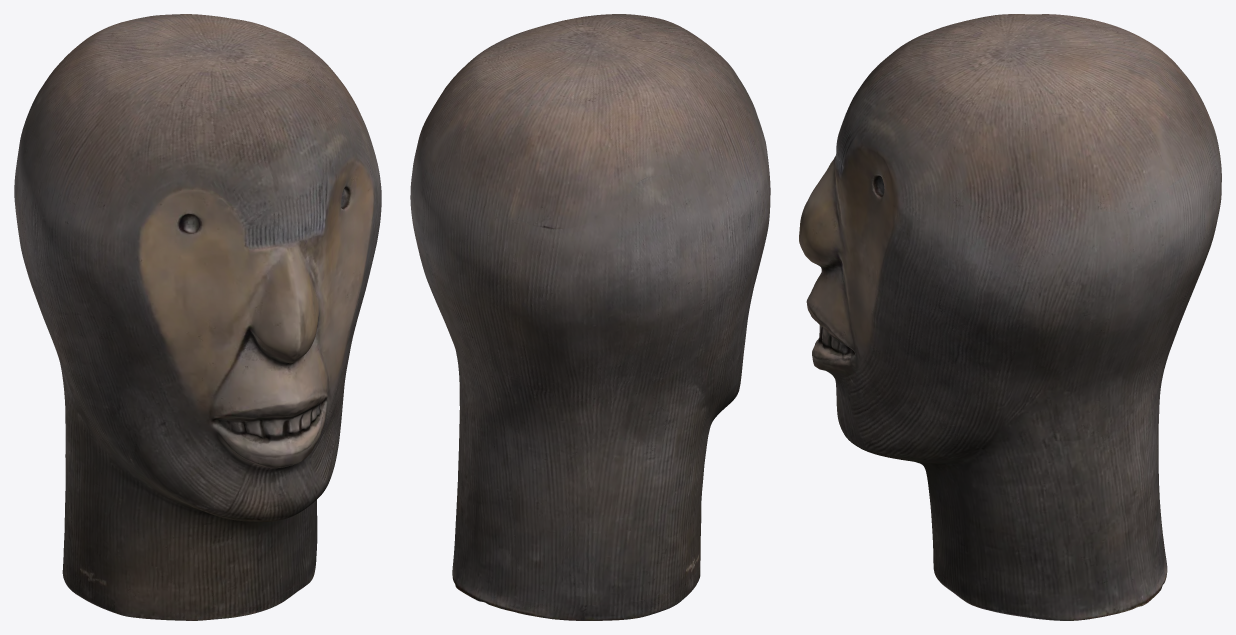
File: shah-head-with-bared-teeth.glb
3 views of the same model, side by side, from view 1: azimuth 30°, elevation 25°; view 2: azimuth 150°, elevation 25°; view 3: azimuth 270°, elevation 25° (orthographic). The views are drawn at different scales.
Visible parts, largest first — view 1: Low; view 2: Low; view 3: Low.
Boxes of the visible parts, x1=… form: Low: x1=14, y1=14, x2=381, y2=620; Low: x1=410, y1=14, x2=770, y2=620; Low: x1=799, y1=14, x2=1221, y2=620.
Size of the model in its own units: 17.37 by 27.91 by 20.44.
Materials: 1 (1 with a texture image).
